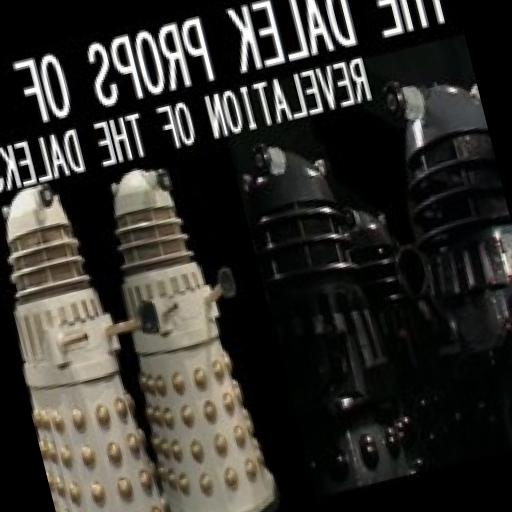dalek: (210, 128, 426, 510), (0, 162, 219, 512), (83, 151, 294, 512), (354, 67, 512, 470)
